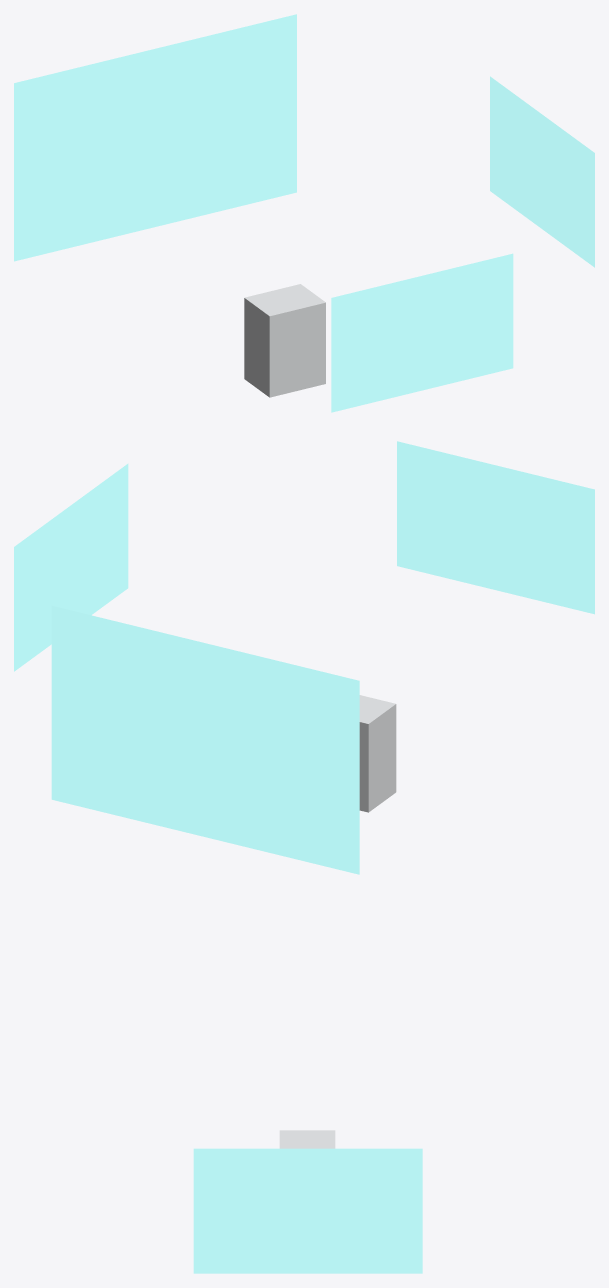
The model's file is sala_konferencyjna.FBX.
3 views of the same model, one above another, from view 1: azimuth 30°, elevation 25°; view 2: azimuth 150°, elevation 25°; view 3: azimuth 270°, elevation 25° (orthographic). The views are drawn at different scales.
Visible parts, largest first — view 1: Board, user_screen, Presentation_screen, platform_3dobj; view 2: Board, user_screen, Presentation_screen, platform_3dobj; view 3: Presentation_screen, platform_3dobj.
Boxes of the visible parts, left/top/right/bottom form: Board: left=14, top=14, right=296, bottom=261; user_screen: left=331, top=253, right=513, bottom=412; Presentation_screen: left=490, top=76, right=594, bottom=267; platform_3dobj: left=244, top=284, right=325, bottom=397; Board: left=51, top=606, right=359, bottom=874; user_screen: left=397, top=441, right=594, bottom=614; Presentation_screen: left=14, top=463, right=128, bottom=671; platform_3dobj: left=359, top=695, right=396, bottom=812; Presentation_screen: left=193, top=1148, right=422, bottom=1273; platform_3dobj: left=279, top=1130, right=335, bottom=1148.
Size of what is drawn, in the model's own units: 3251 by 1845 by 3786.
